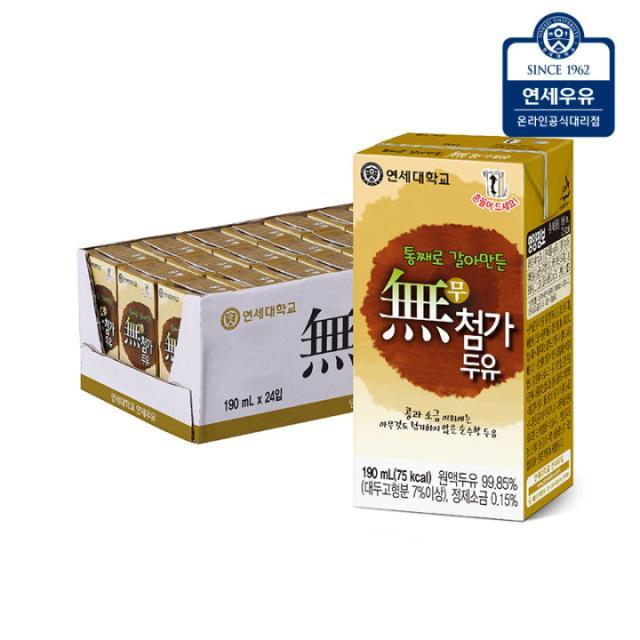Tetra: (350, 131, 578, 535)
